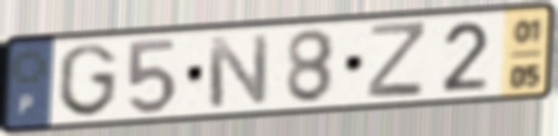2: (440, 19, 493, 95)
5: (123, 35, 181, 116)
8: (283, 26, 338, 107)
G: (56, 41, 119, 119)
N: (204, 32, 272, 111)
Z: (363, 18, 430, 99)
